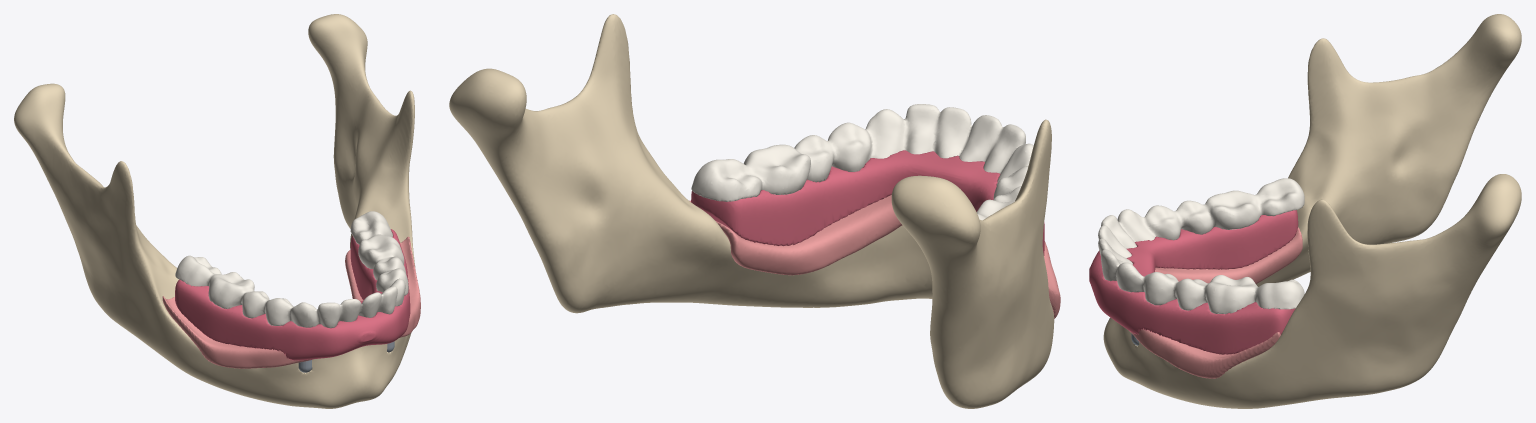
File: overdenture-whole.glb
3 views of the same model, side by side, from view 1: azimuth 30°, elevation 25°; view 2: azimuth 150°, elevation 25°; view 3: azimuth 270°, elevation 25° (orthographic). The views are drawn at different scales.
Visible parts, largest first — view 1: bone, denture, denture_teeth, gum; view 2: bone, denture_teeth, denture, gum; view 3: bone, denture, denture_teeth, gum.
Part boxes in pixels (left/top/right/bottom): bone: left=14, top=14, right=415, bottom=408; denture: left=175, top=229, right=410, bottom=360; denture_teeth: left=175, top=211, right=408, bottom=328; gum: left=162, top=236, right=420, bottom=368; bone: left=449, top=14, right=1054, bottom=408; denture_teeth: left=691, top=104, right=1033, bottom=220; denture: left=691, top=150, right=1044, bottom=255; gum: left=689, top=195, right=1060, bottom=318; bone: left=1103, top=14, right=1521, bottom=408; denture: left=1089, top=210, right=1298, bottom=354; denture_teeth: left=1098, top=178, right=1304, bottom=314; gum: left=1129, top=227, right=1302, bottom=378.
Bounding box in the file's own units: 106 × 67.96 × 98.73.
